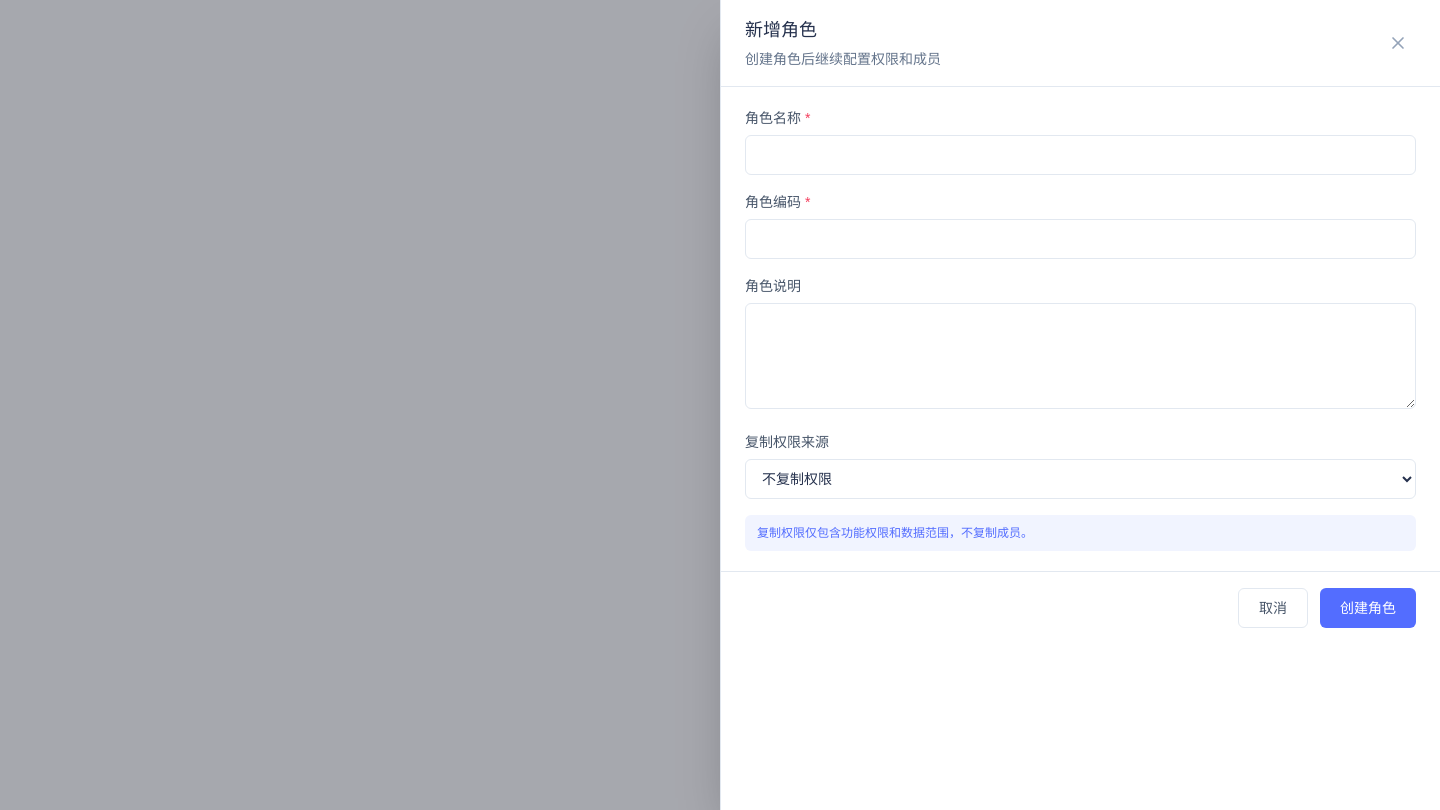
RoleFormDrawer › prevents duplicate normalized codes from being submitted
Type "重复角色" into the field with test id "role-name". click: (1080, 155)
box: [745, 135, 1416, 175]
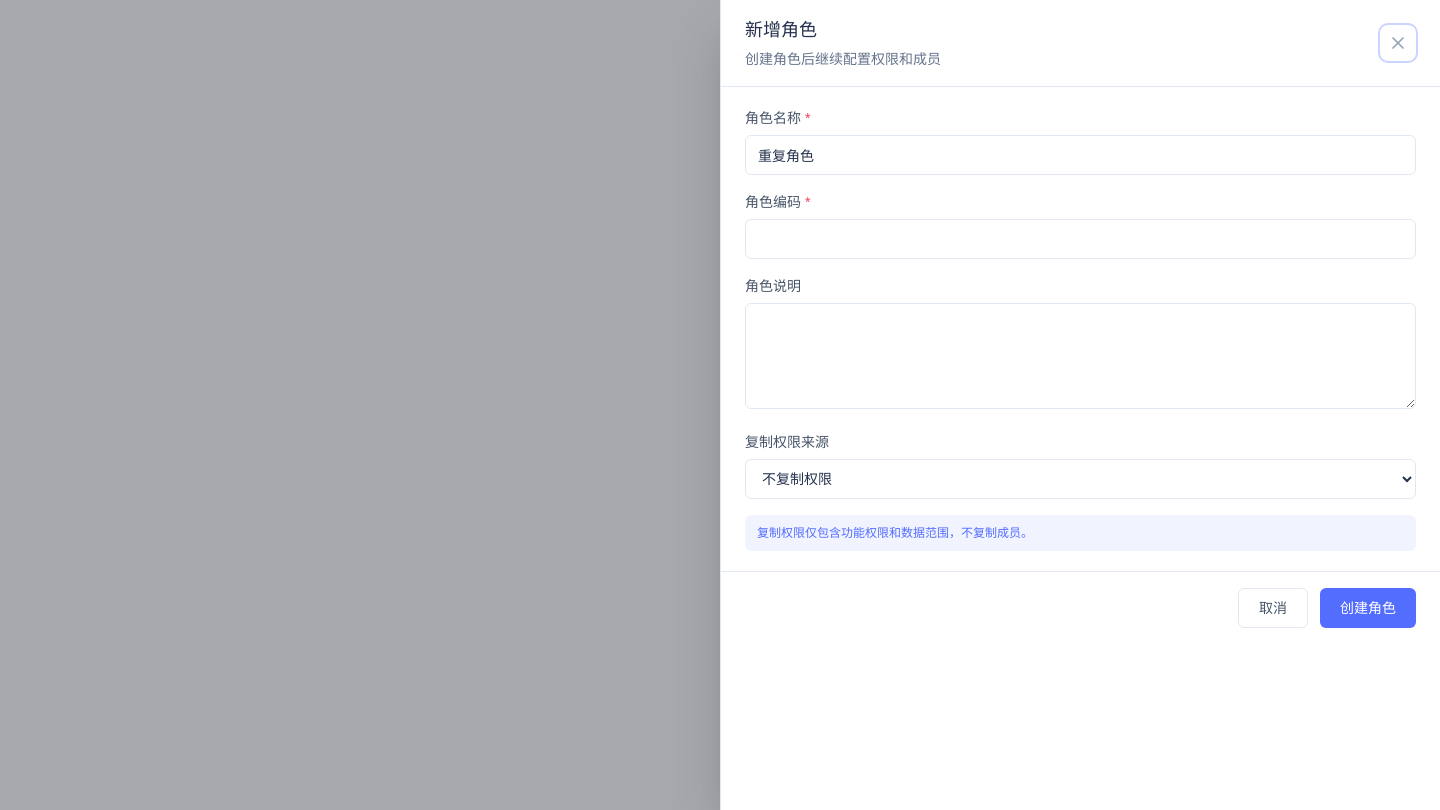
Type "product_operator" into the field with test id "role-code". click: (1080, 239)
box: [745, 219, 1416, 259]
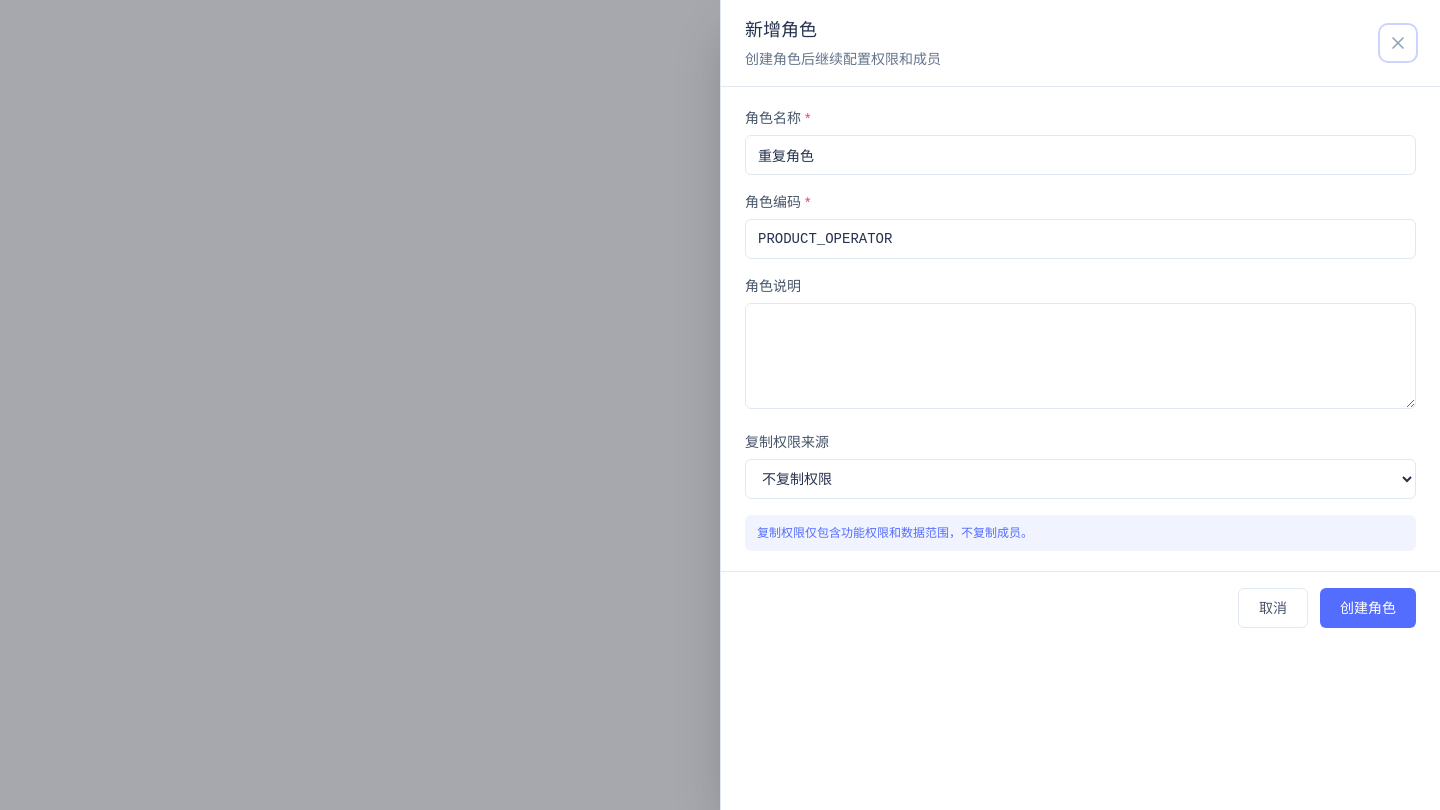
Click the button with test id "role-submit". click: click(1368, 608)
box: [1320, 588, 1416, 628]
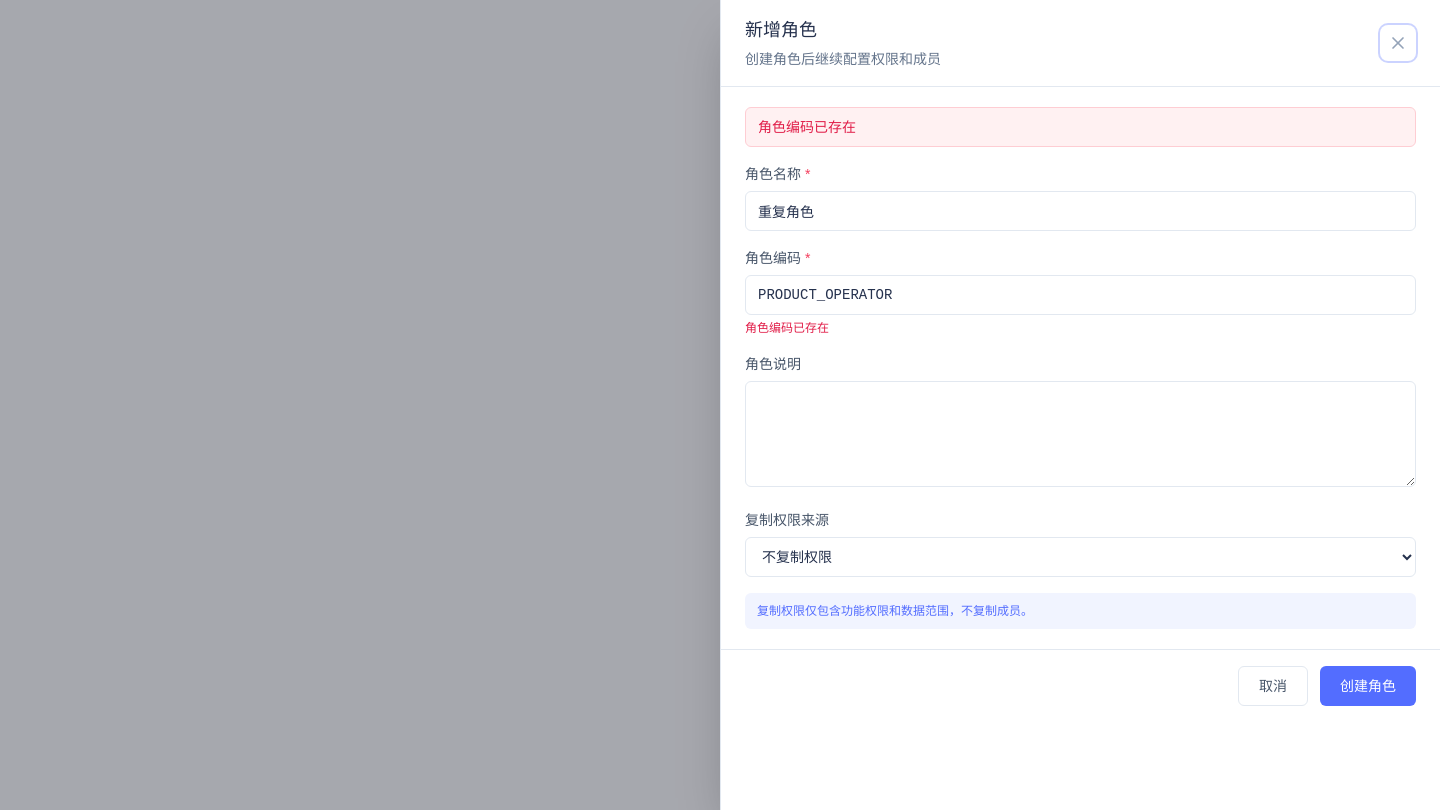
Check: the text with test id "role-code-error" reads "角色编码已存在", box [745, 321, 829, 335]
